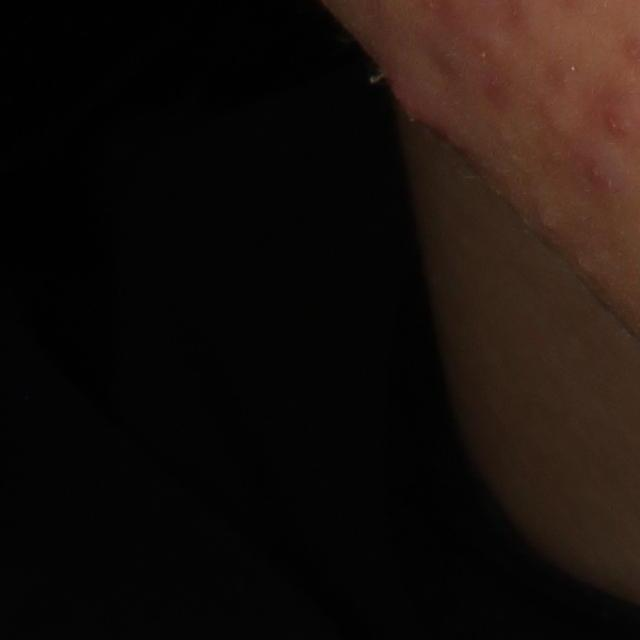papule: (388, 70, 440, 136)
